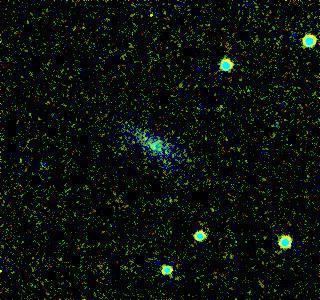star: (205, 91, 235, 121)
